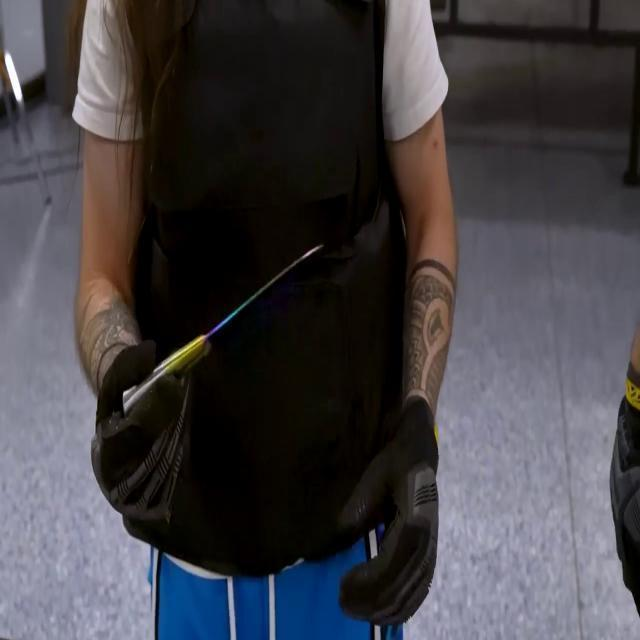Knife: (133, 228, 339, 432)
